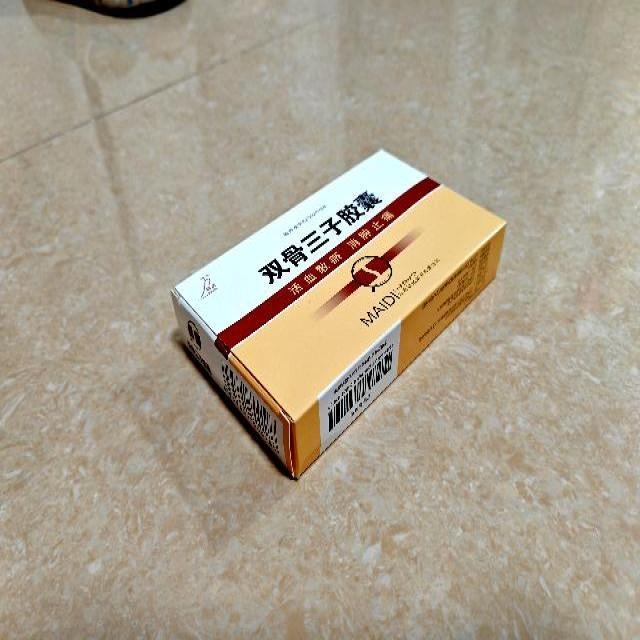box: (168, 148, 507, 480)
